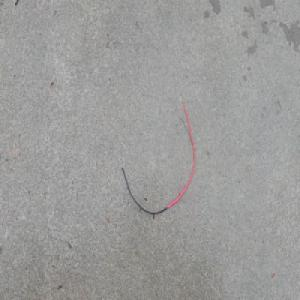Wire: (116, 94, 196, 215)
